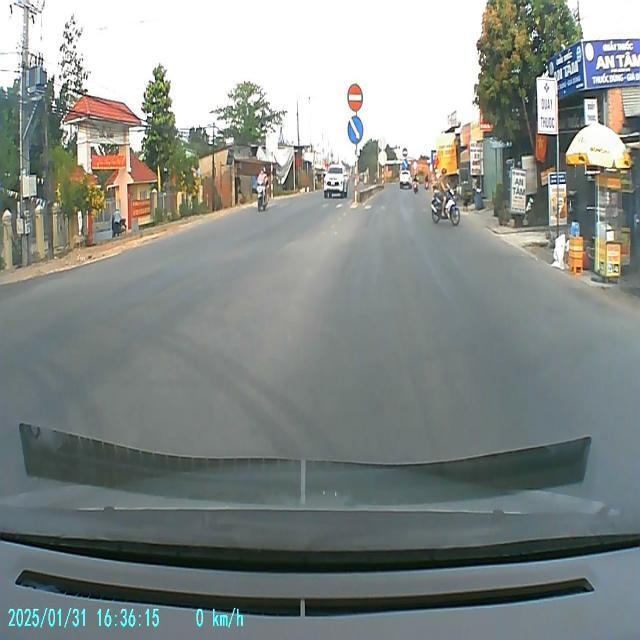102-cam-di-nguoc-chieu: (347, 83, 364, 112), (402, 148, 408, 158)
302a-huong-phai-di-vong-chuong-ngai-vat-1: (348, 116, 364, 144), (402, 158, 409, 170)
